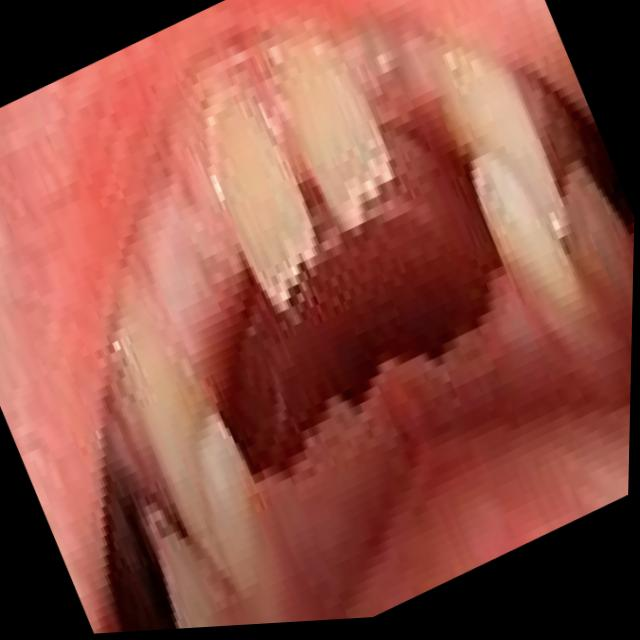hypodontia: (109, 43, 623, 588)
